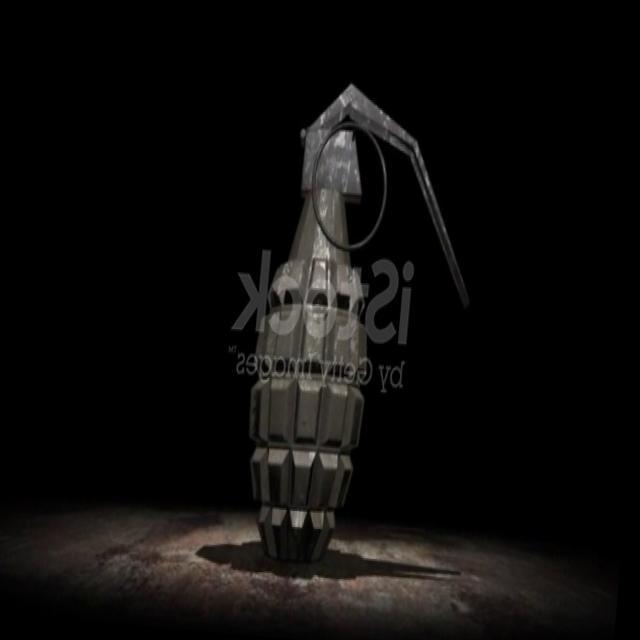grenade: (235, 78, 482, 572)
